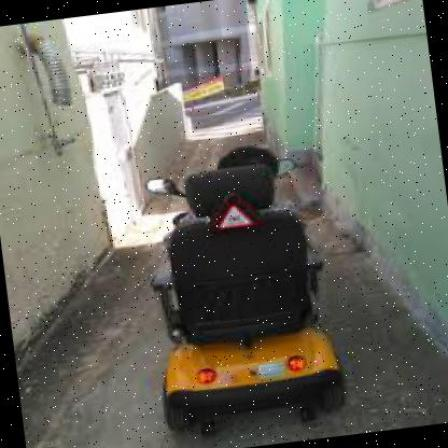wheel: (130, 137, 348, 439)
